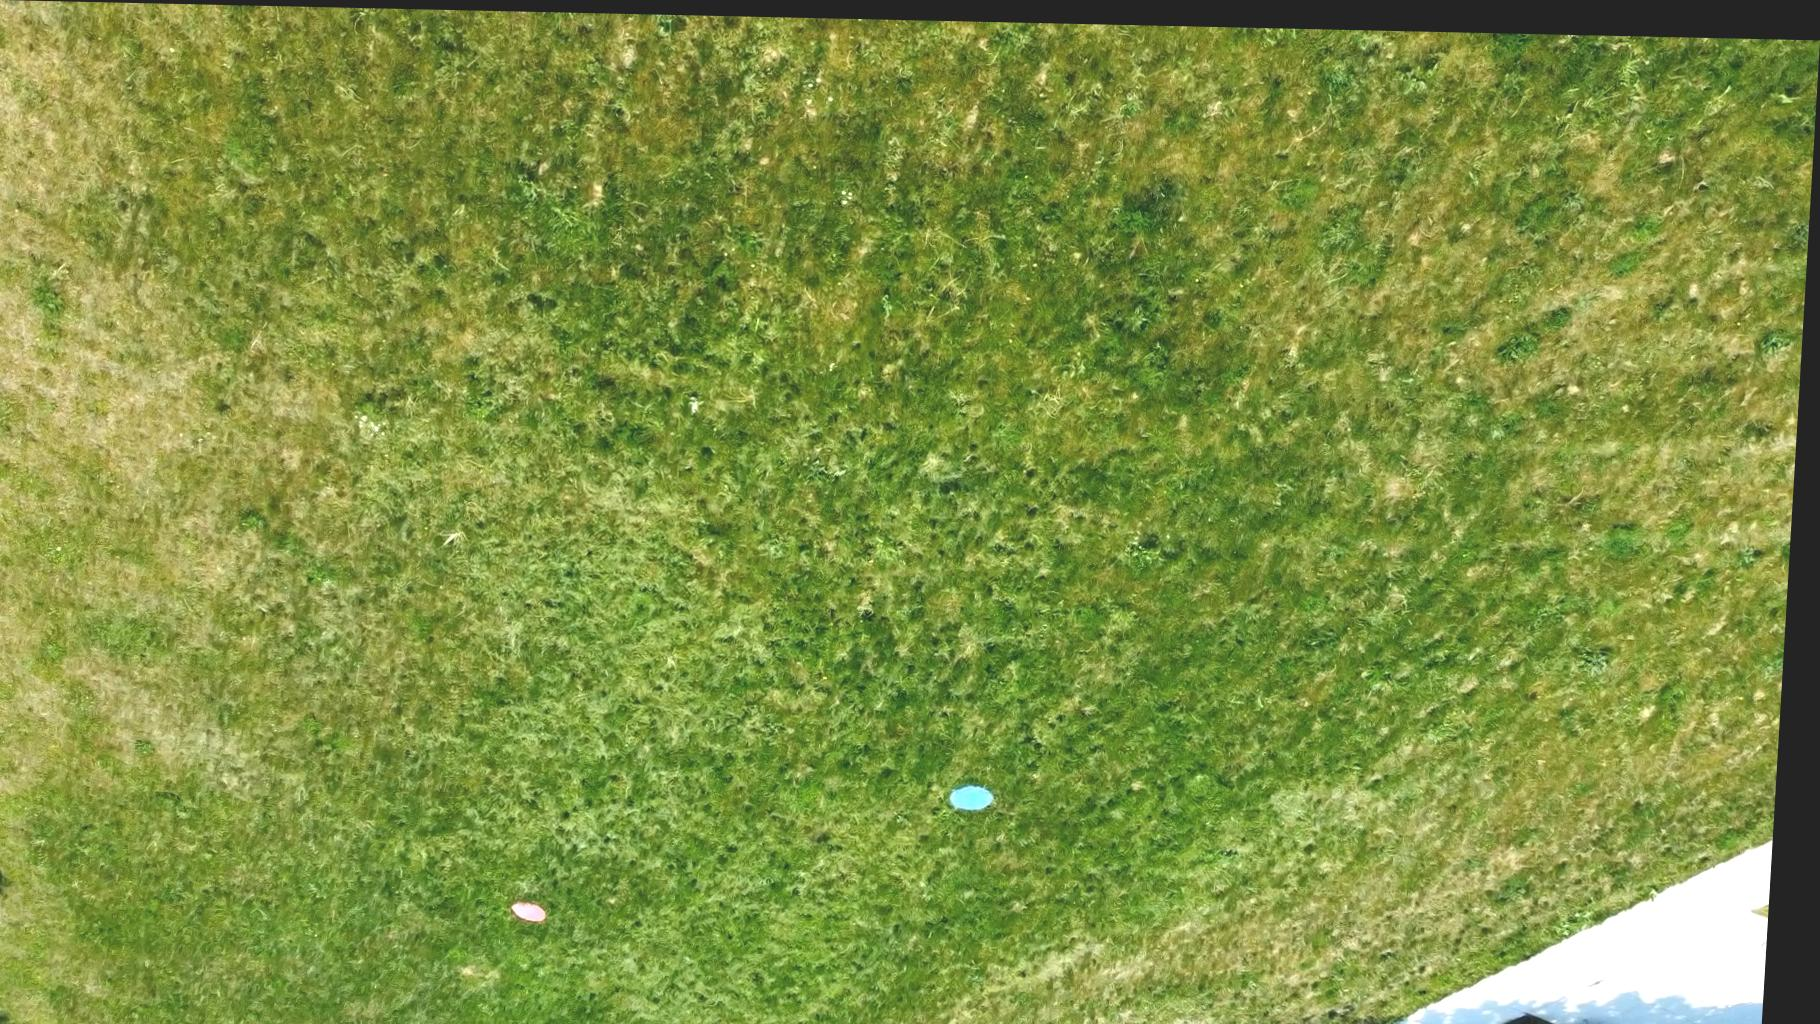Blue: (956, 778, 1006, 808)
Red: (520, 896, 560, 921)
